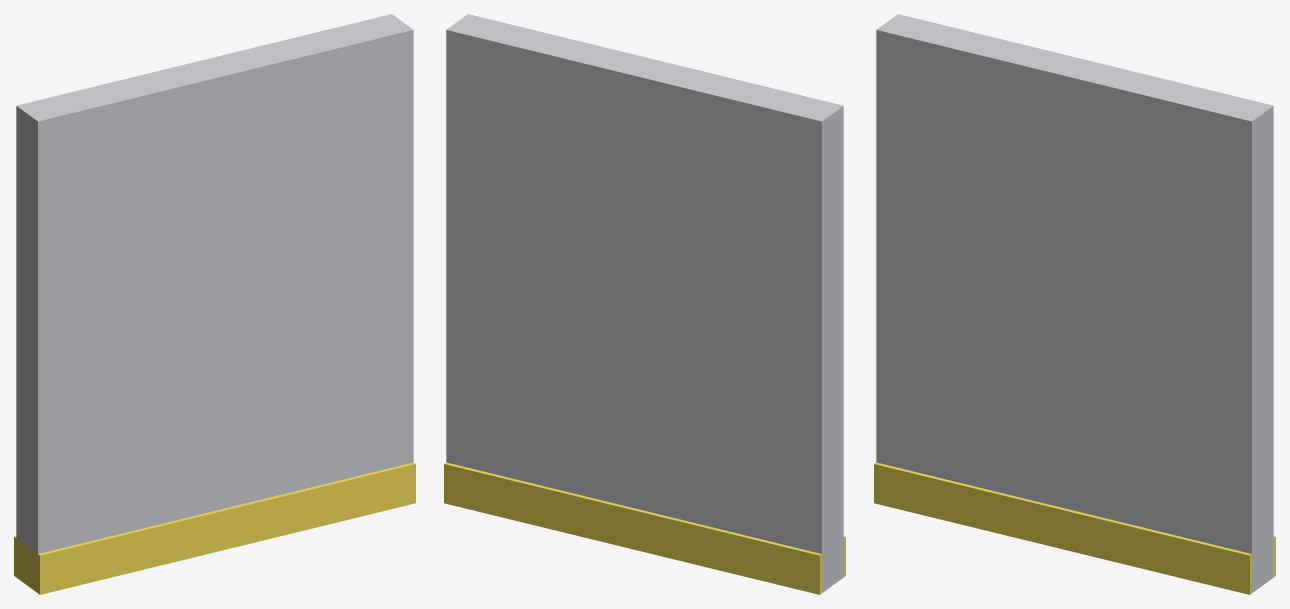
The model's file is WallStraight.glb.
3 renders of one model, left to right at view 1: azimuth 30°, elevation 25°; view 2: azimuth 150°, elevation 25°; view 3: azimuth 330°, elevation 25°, orthographic.
Parts seen in each view (by area): view 1: Wall, Skirt; view 2: Wall, Skirt; view 3: Wall, Skirt.
Boxes of the visible parts, bbox=[...] form: Wall: bbox=[16, 14, 413, 553]; Skirt: bbox=[14, 462, 415, 594]; Wall: bbox=[446, 14, 843, 592]; Skirt: bbox=[444, 462, 845, 594]; Wall: bbox=[876, 14, 1273, 592]; Skirt: bbox=[874, 462, 1275, 594].
Size of the model in its own units: 2 by 2.4 by 0.24.
